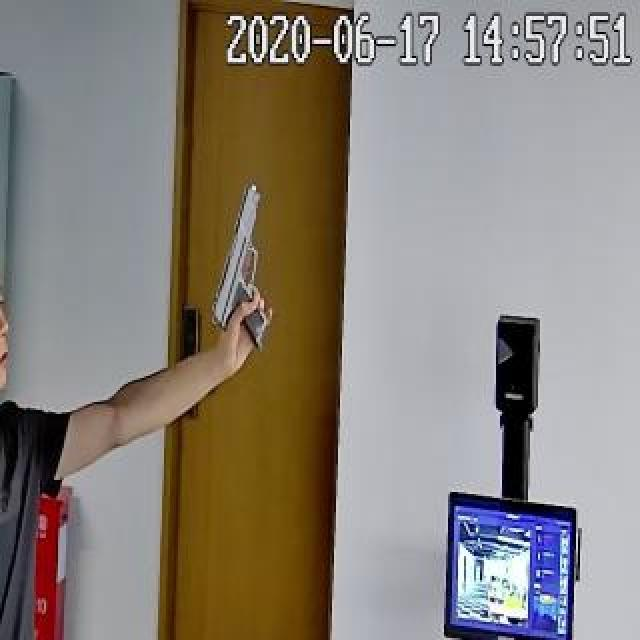Guns: (185, 165, 294, 386)
